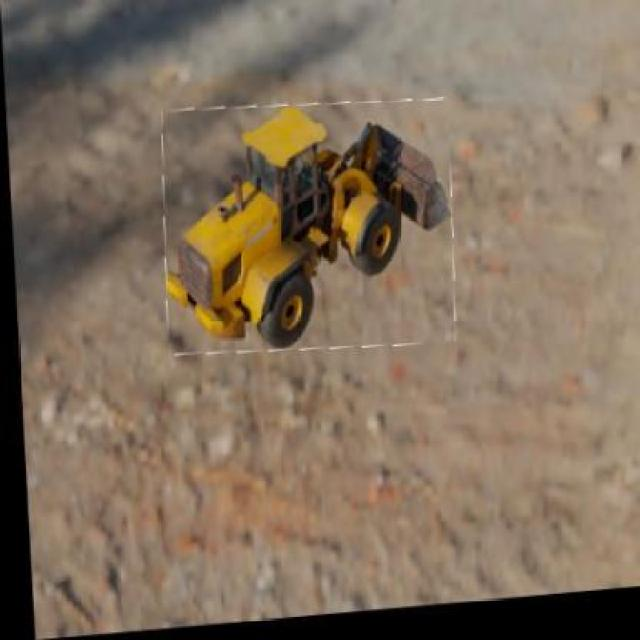buldozerpayloadergrader: (160, 105, 452, 348)
